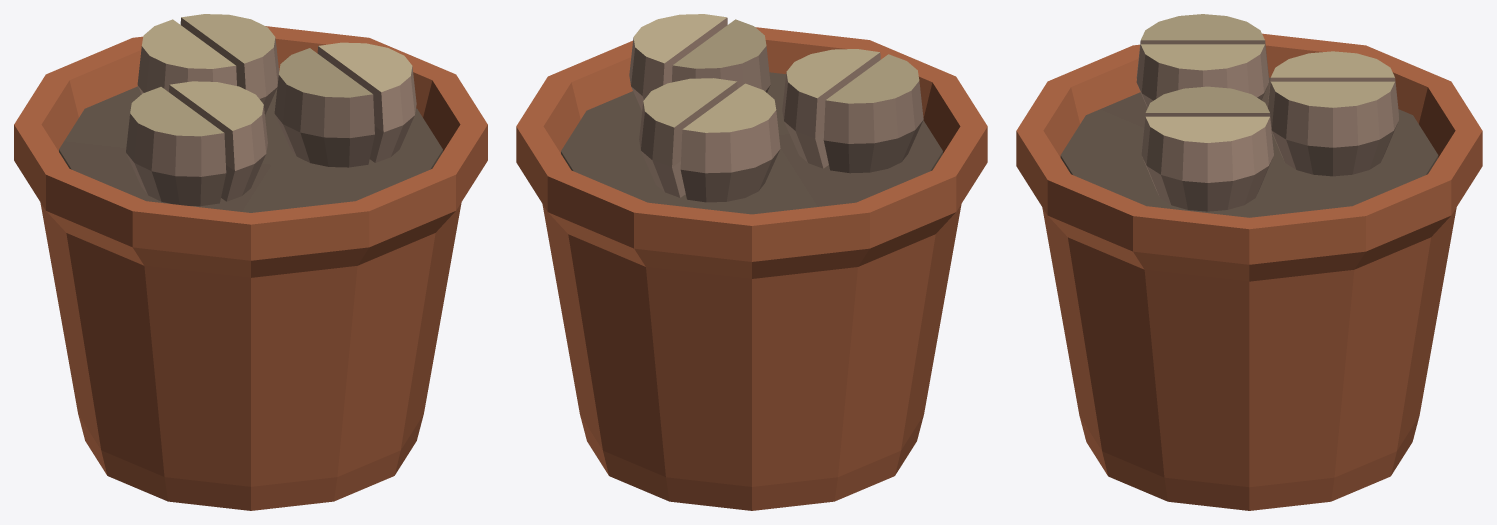
File: new-aucampiae.glb
The picture shows the model from 3 angles, left to right: view 1: azimuth 30°, elevation 25°; view 2: azimuth 150°, elevation 25°; view 3: azimuth 270°, elevation 25°; orthographic projection.
Visible parts, largest first — view 1: new-aucampiae/review-terra-vessel, new-aucampiae/review-rooted-soil, new-aucampiae/fused-leaf-half-real-cleft-003, new-aucampiae/fused-leaf-half-real-cleft-001, new-aucampiae/fused-leaf-half-real-cleft-004, new-aucampiae/fused-leaf-half-real-cleft-002, new-aucampiae/fused-leaf-half-real-cleft-006, new-aucampiae/fused-leaf-half-real-cleft-005; view 2: new-aucampiae/review-terra-vessel, new-aucampiae/review-rooted-soil, new-aucampiae/fused-leaf-half-real-cleft-005, new-aucampiae/fused-leaf-half-real-cleft-001, new-aucampiae/fused-leaf-half-real-cleft-006, new-aucampiae/fused-leaf-half-real-cleft-002, new-aucampiae/fused-leaf-half-real-cleft-004, new-aucampiae/fused-leaf-half-real-cleft-003; view 3: new-aucampiae/review-terra-vessel, new-aucampiae/review-rooted-soil, new-aucampiae/fused-leaf-half-real-cleft-004, new-aucampiae/fused-leaf-half-real-cleft-006, new-aucampiae/fused-leaf-half-real-cleft-002, new-aucampiae/fused-leaf-half-real-cleft-001, new-aucampiae/fused-leaf-half-real-cleft-005, new-aucampiae/fused-leaf-half-real-cleft-003.
Boxes of the visible parts, x1,y1,x2,y2 form: new-aucampiae/review-terra-vessel: (14,26,487,510); new-aucampiae/review-rooted-soil: (59,86,442,212); new-aucampiae/fused-leaf-half-real-cleft-003: (274,48,374,167); new-aucampiae/fused-leaf-half-real-cleft-001: (126,87,226,206); new-aucampiae/fused-leaf-half-real-cleft-004: (317,42,416,162); new-aucampiae/fused-leaf-half-real-cleft-002: (169,81,267,201); new-aucampiae/fused-leaf-half-real-cleft-006: (180,14,279,114); new-aucampiae/fused-leaf-half-real-cleft-005: (137,19,236,93); new-aucampiae/review-terra-vessel: (516,27,987,510); new-aucampiae/review-rooted-soil: (561,72,942,214); new-aucampiae/fused-leaf-half-real-cleft-005: (680,83,780,202); new-aucampiae/fused-leaf-half-real-cleft-001: (823,54,923,173); new-aucampiae/fused-leaf-half-real-cleft-006: (639,78,737,197); new-aucampiae/fused-leaf-half-real-cleft-002: (782,49,880,168); new-aucampiae/fused-leaf-half-real-cleft-004: (629,14,727,110); new-aucampiae/fused-leaf-half-real-cleft-003: (672,19,770,92); new-aucampiae/review-terra-vessel: (1016,33,1482,510); new-aucampiae/review-rooted-soil: (1060,77,1438,217); new-aucampiae/fused-leaf-half-real-cleft-004: (1141,116,1273,211); new-aucampiae/fused-leaf-half-real-cleft-006: (1268,81,1398,176); new-aucampiae/fused-leaf-half-real-cleft-002: (1136,44,1268,107); new-aucampiae/fused-leaf-half-real-cleft-001: (1136,14,1268,78); new-aucampiae/fused-leaf-half-real-cleft-005: (1267,51,1398,115); new-aucampiae/fused-leaf-half-real-cleft-003: (1141,86,1273,151).
Size of the model in its own units: 0.19 by 0.163 by 0.19.
Materials: 4 (4 with a texture image).
